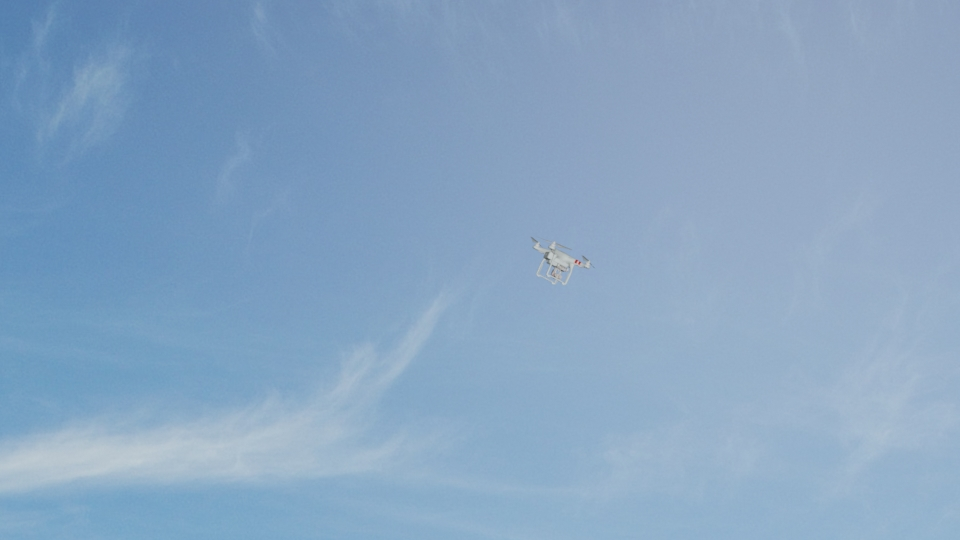drone: (530, 234, 594, 285)
